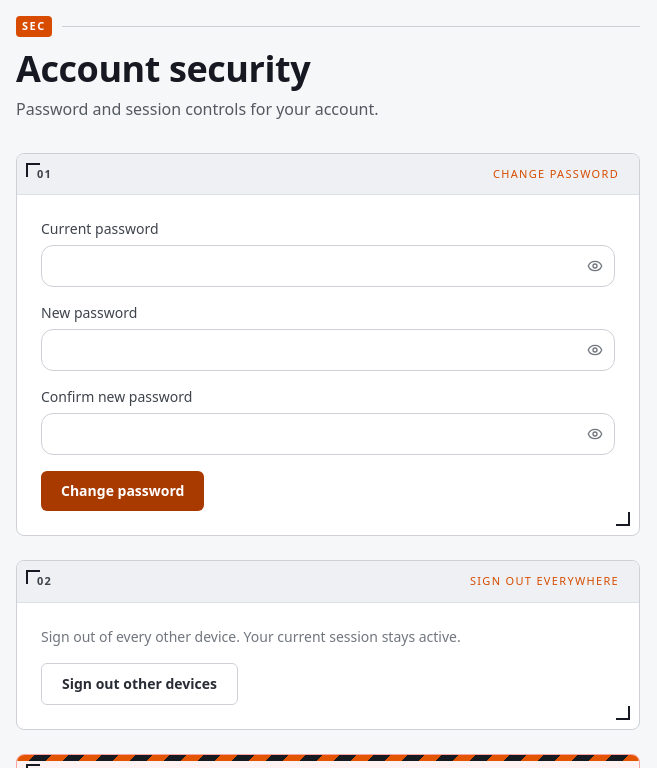
SecuritySettings — sign out everywhere › posts to logout-all and toasts success
Click the button "Sign out other devices": {"x": 140, "y": 684} x1=41 y1=662 x2=238 y2=704
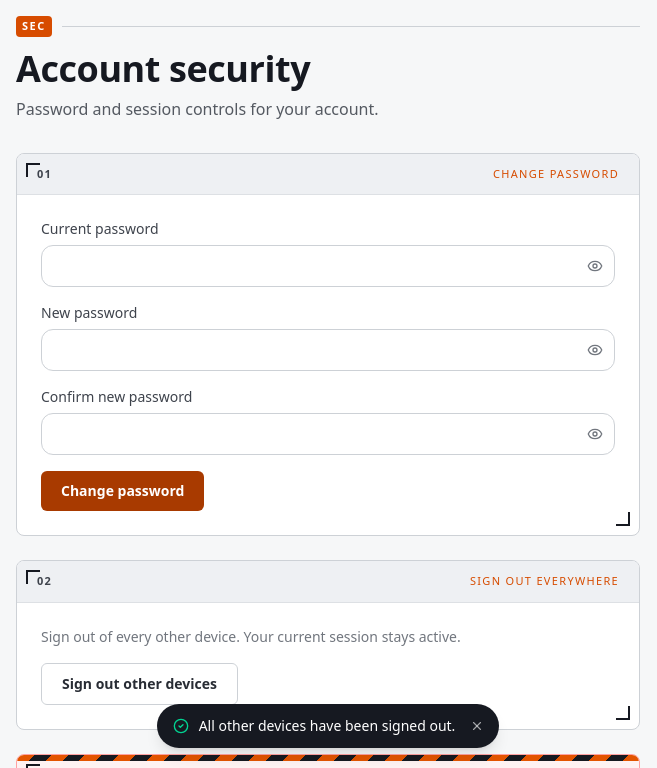
expect the message reads "All other devices have been signed out.": met, box x1=199 y1=716 x2=455 y2=735
